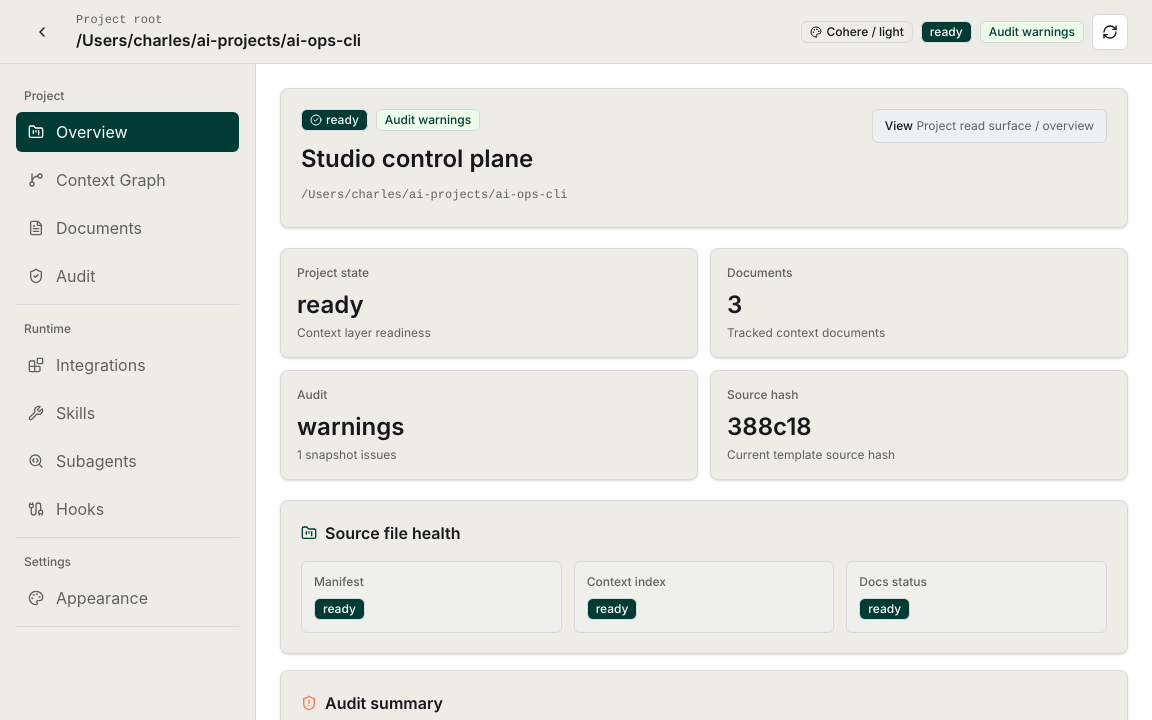
Test: App shell › renders Integrations as a Runtime area with read-only component health
Click the button "Integrations" at (128, 365), box [16,345,239,385]
(page scrolled)
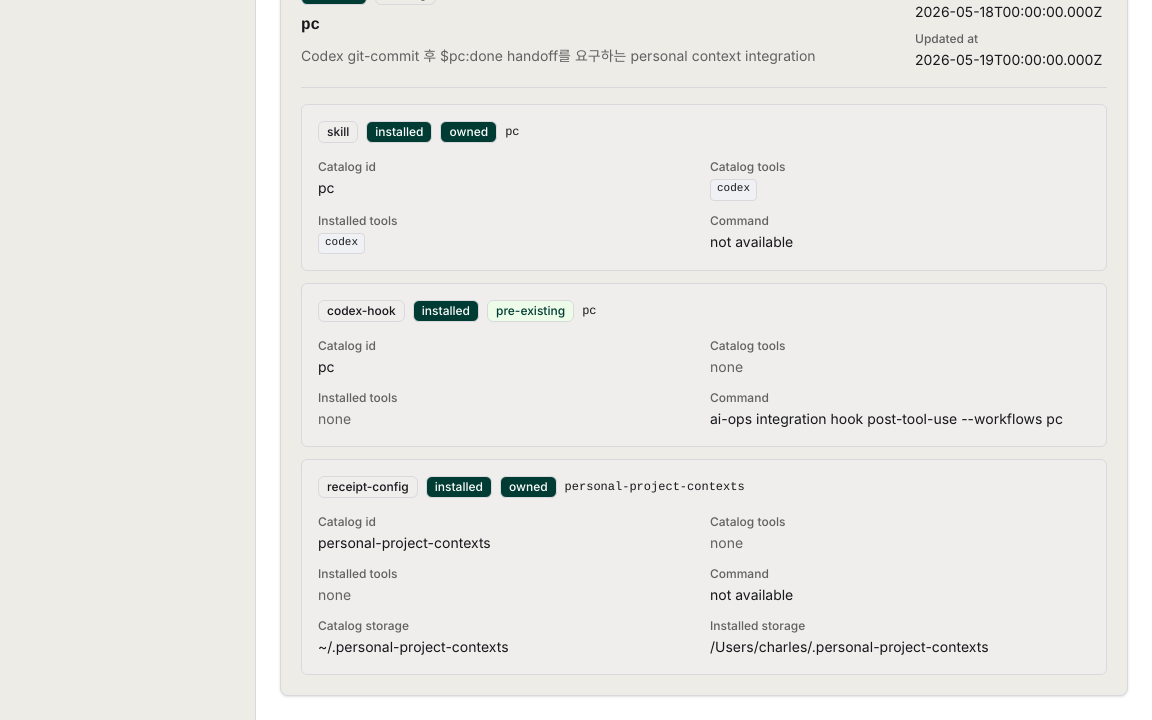
expect the text "pre-existing" is shown: met, box [487,300,574,322]
expect the text "~/.personal-project-contexts" is shown: met, box [318,639,508,656]
expect the text "/Users/charles/.personal-project-contexts" is shown: met, box [710,639,989,656]
